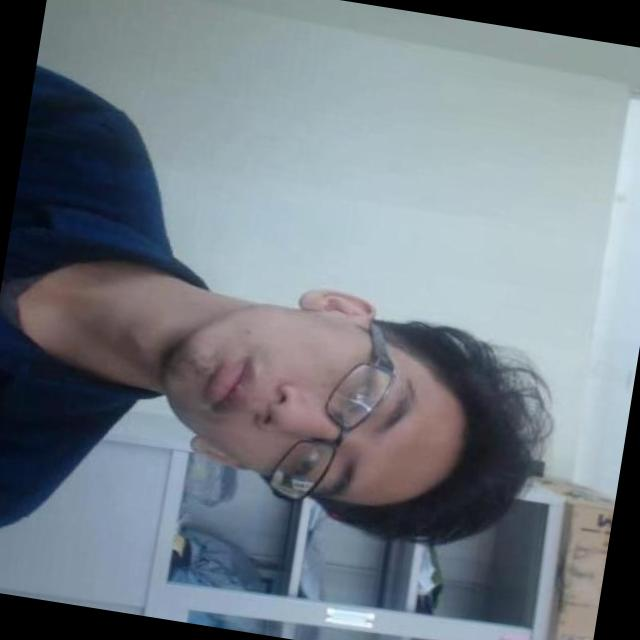bareface: (178, 284, 536, 594)
